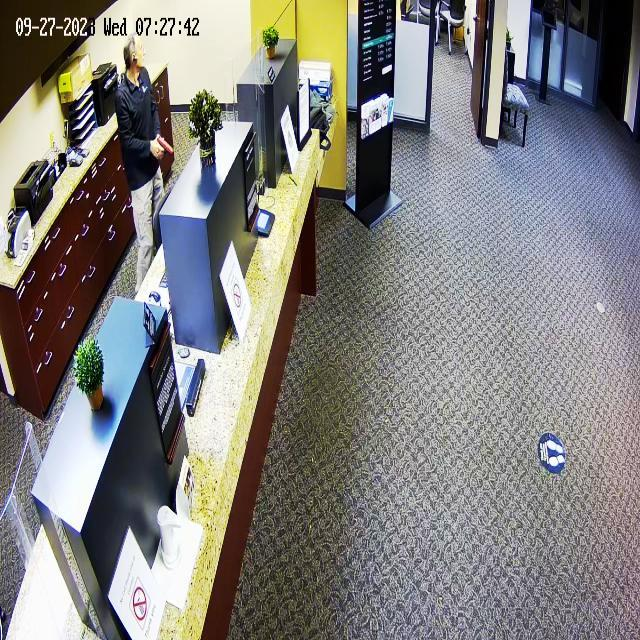Gun: (144, 129, 178, 167)
